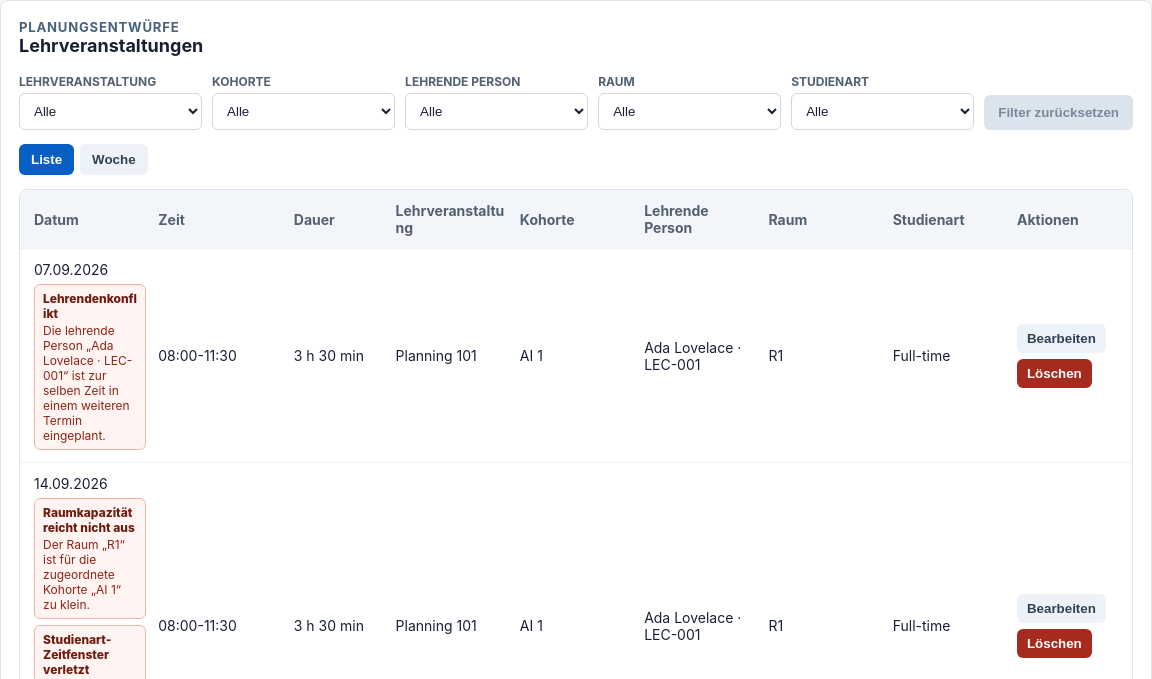
DraftSchedulePanel › shows list-mode alert reasons and related session details within two interactions
Click the heading that starts with "Lehrendenkonflikt" at x=90, y=367, box left=43, top=291, right=137, bottom=443
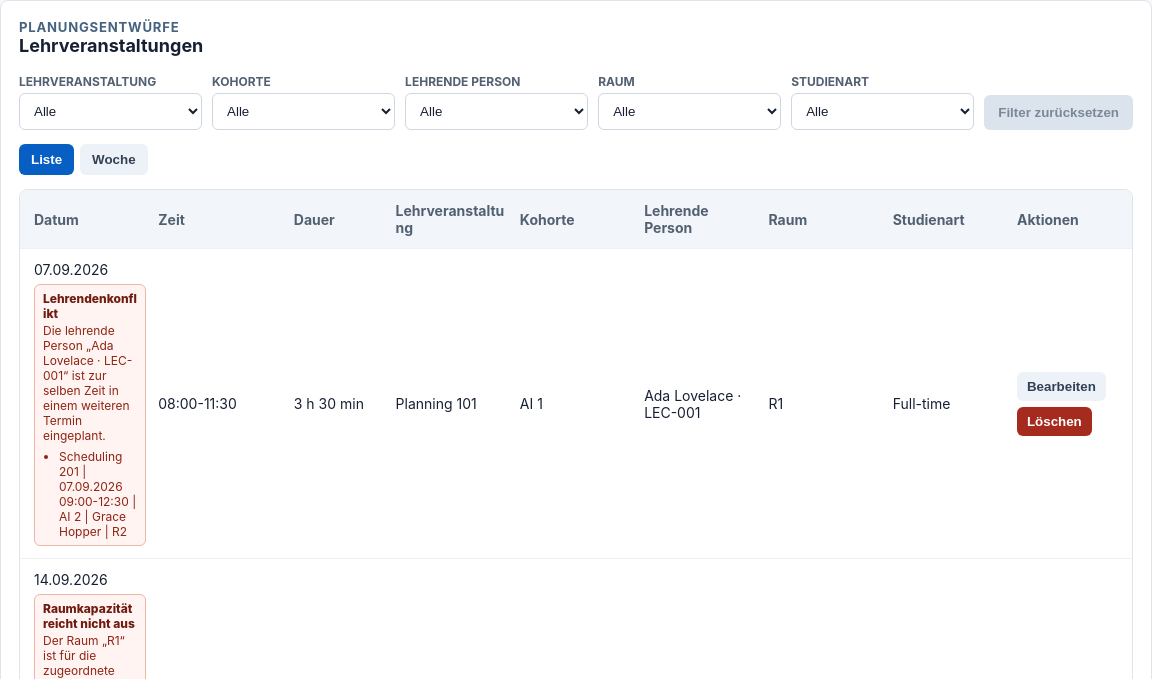
Expected: the element that starts with "Lehrendenkonflikt" shows "Scheduling 201", left=59, top=449, right=122, bottom=479
Expected: the element that starts with "Lehrendenkonflikt" shows "07.09.2026 09:00-12:30", left=34, top=284, right=146, bottom=546
